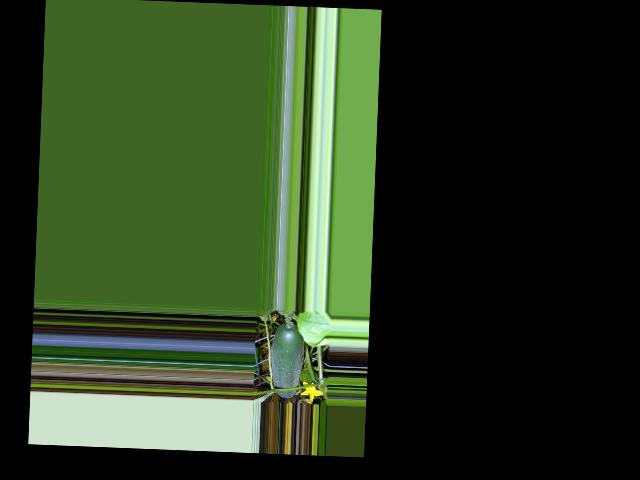cucumber: (269, 320, 304, 397)
